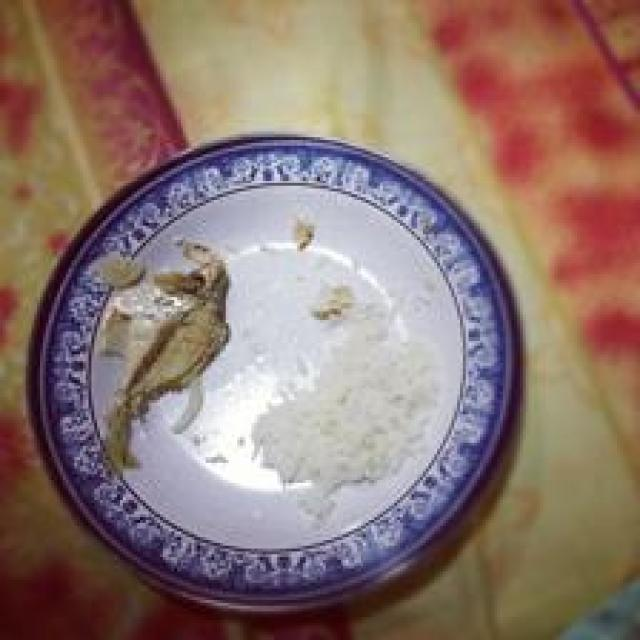Wet Waste: (263, 300, 448, 518)
